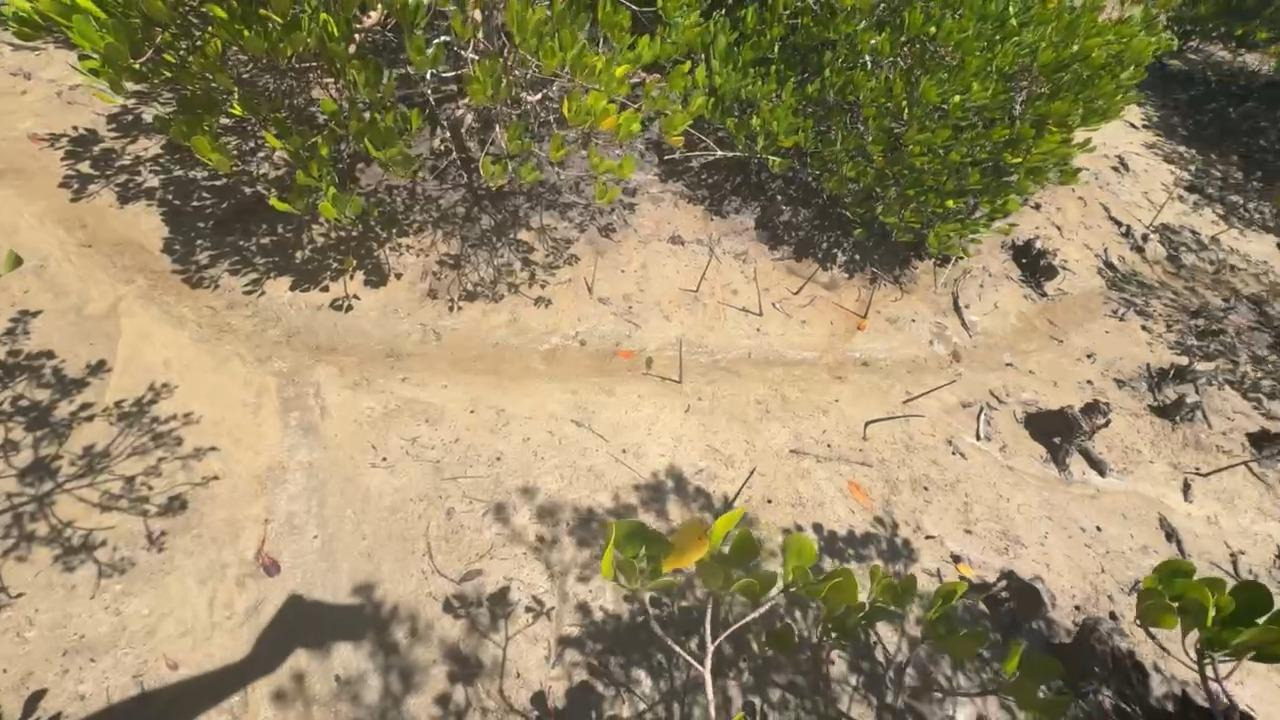Tree: (1145, 186, 1178, 229), (902, 380, 957, 404), (727, 466, 756, 510), (1203, 459, 1260, 478), (1193, 381, 1213, 429), (793, 265, 822, 295), (865, 414, 926, 427), (696, 254, 713, 293), (937, 256, 956, 287), (863, 284, 877, 320), (754, 266, 763, 317), (589, 254, 598, 300), (1210, 228, 1232, 239), (679, 337, 683, 384)
